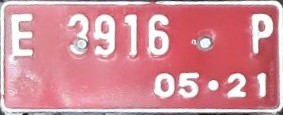plate: (2, 1, 280, 115)
